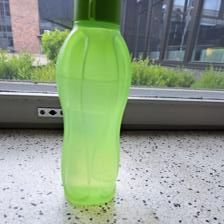bottle: (51, 0, 135, 207)
